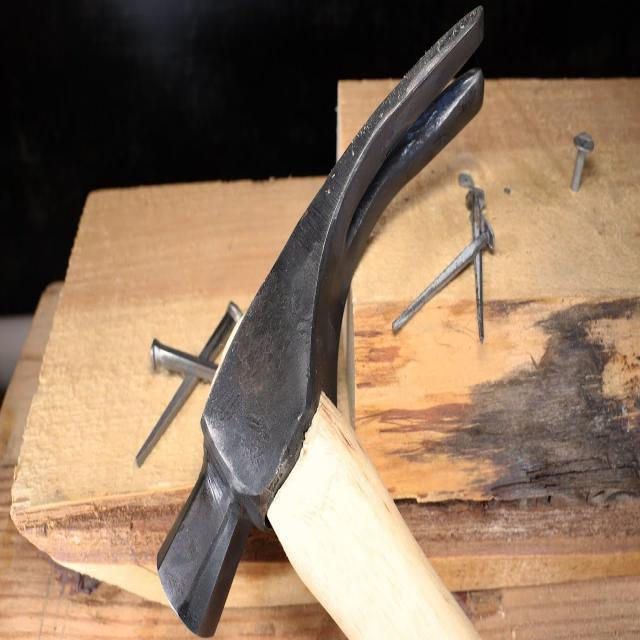hammer: (154, 2, 489, 640)
